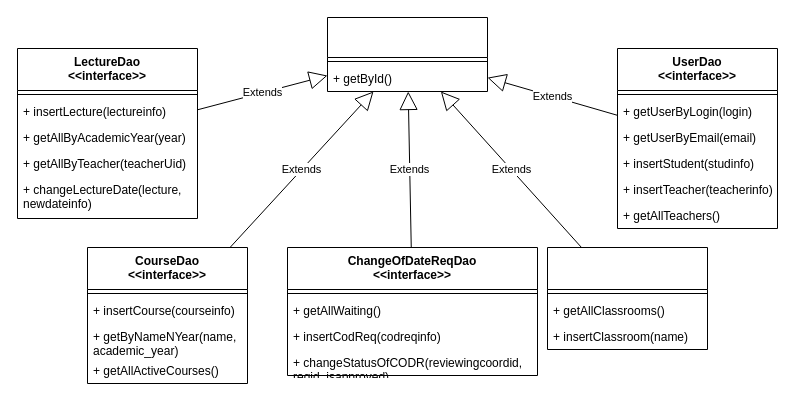
This 795x404 diagram has some shape labels left out. Here are the shapes that lost their labels. From the top down, the box of each, then its label:
(326, 16, 488, 92): GenericDao <<interface>>
(546, 246, 708, 350): ClassroomDao <<interface>>
